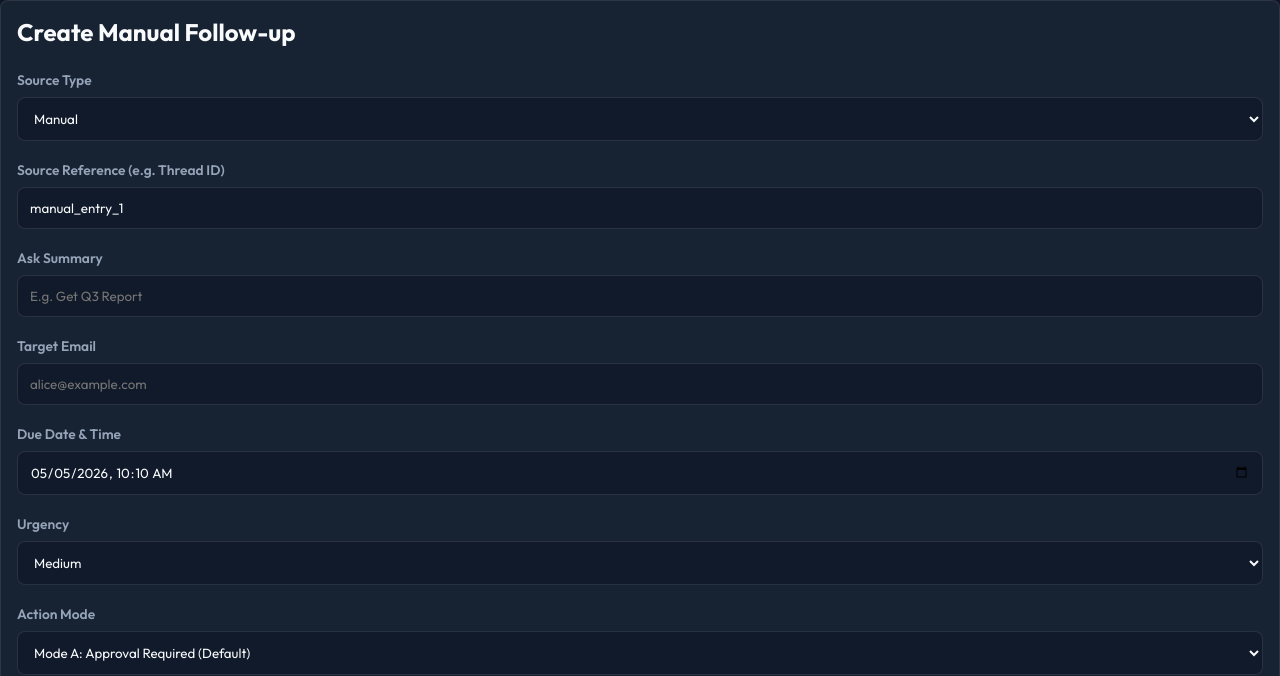
CreateForm › imports Gmail thread context and auto-fills email fields
This screenshot has width=1280, height=676.
Select "Email Thread" in the dropdown below "Source Type" at (640, 119), box top-left (17, 97), bottom-right (1263, 141)
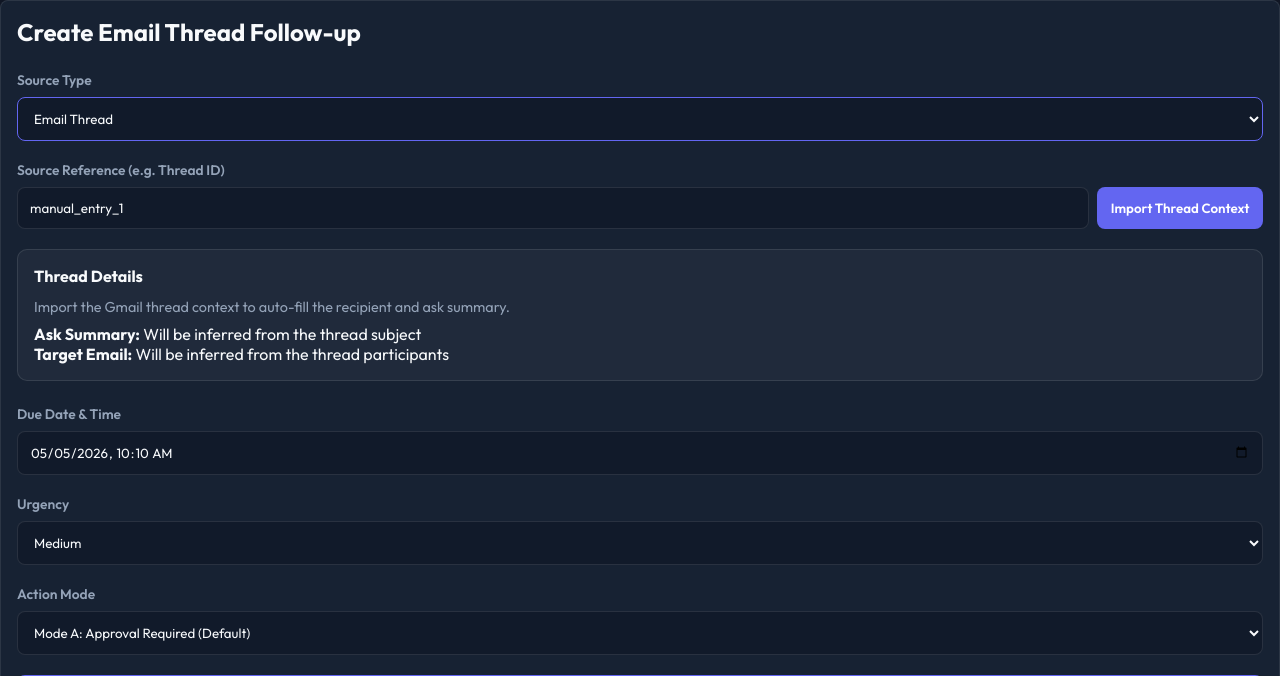
Replace the text in the field with placeholder "Thread ID or Link" below "Source Reference (e.g. Thread ID)" with "Project update" at (553, 208), box top-left (17, 187), bottom-right (1089, 229)
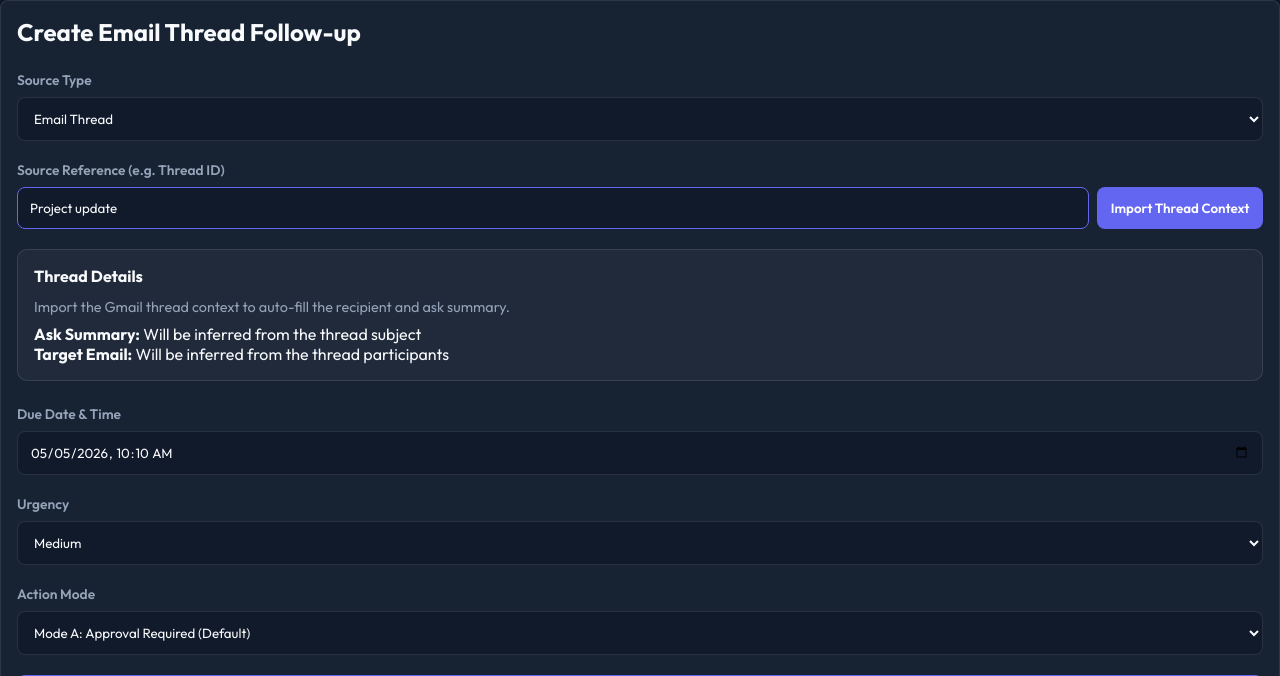
Click the button "Import Thread Context" at (1180, 208), box top-left (1097, 187), bottom-right (1263, 229)
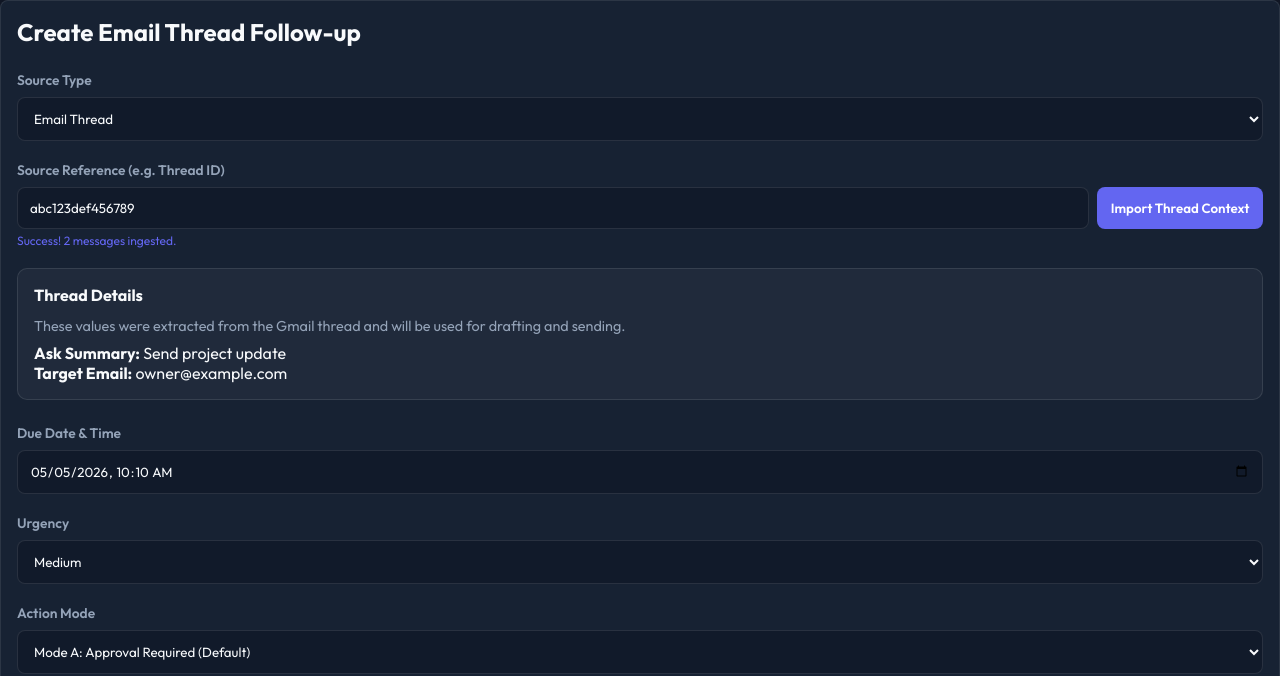
Expected: the text "Success! 2 messages ingested." is shown, top-left (17, 233), bottom-right (176, 248)
Expected: the text "Ask Summary: Send project update" is shown, top-left (34, 343), bottom-right (286, 363)
Expected: the text "Target Email: owner@example.com" is shown, top-left (34, 363), bottom-right (287, 383)
